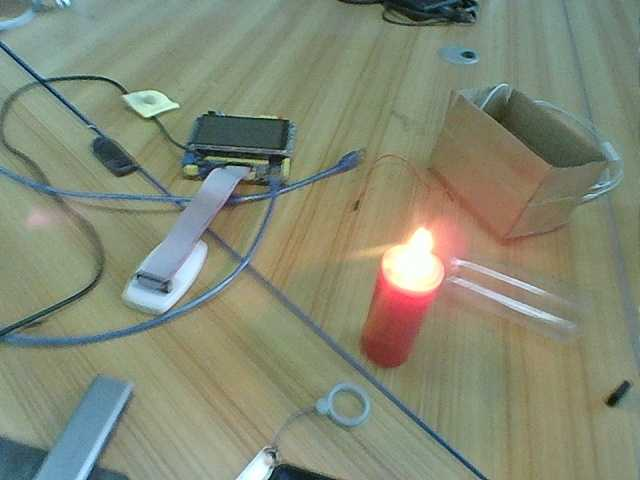candle: (353, 284, 466, 378)
fire: (386, 224, 450, 286)
